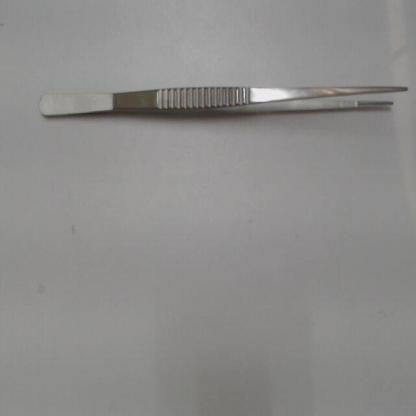DeBakey Dissector: (23, 60, 412, 140)
